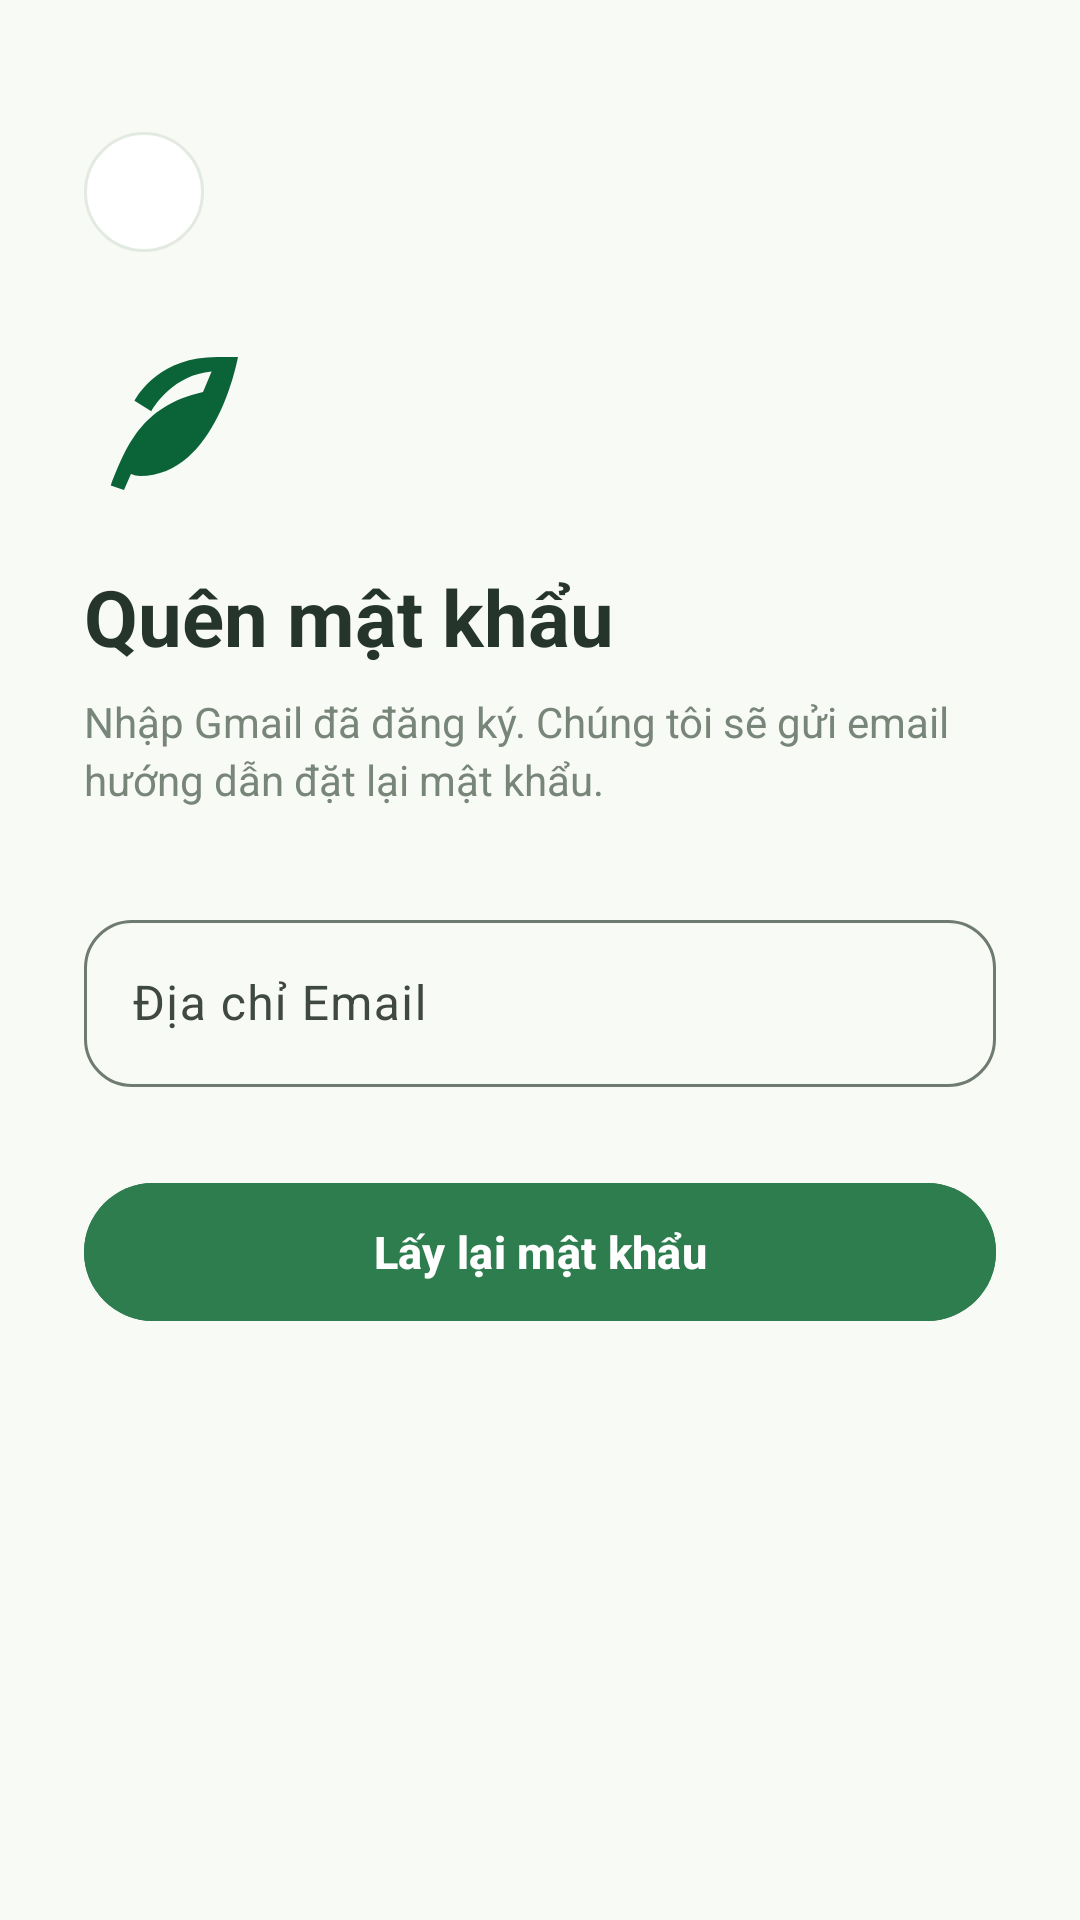

Screen size 1080w x 1920h. Icon name, then its box in pixels as detection(x1, y1, x2, y2):
leaf: detection(111, 357, 238, 490)
